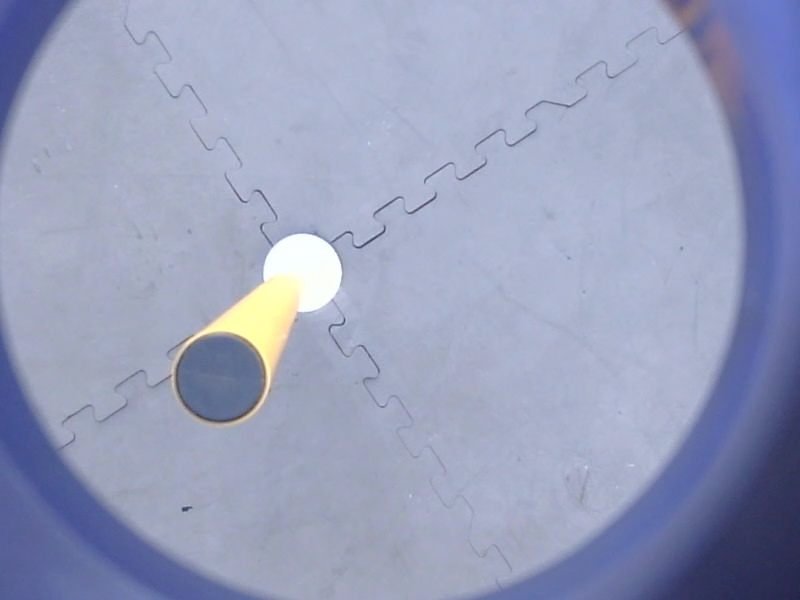tip: (167, 327, 275, 432)
